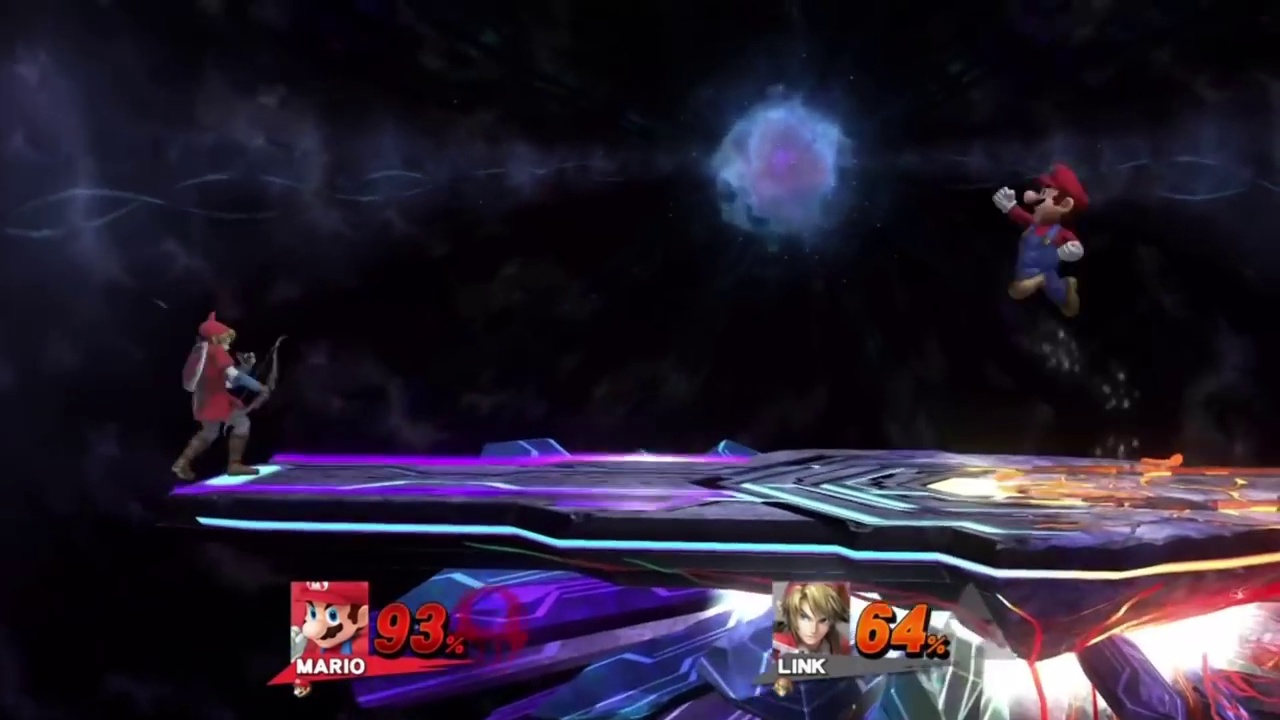Mario: (987, 163, 1086, 317)
